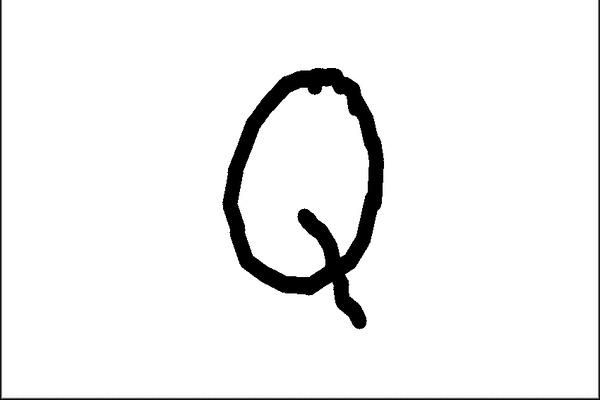Q: (205, 56, 398, 341)
